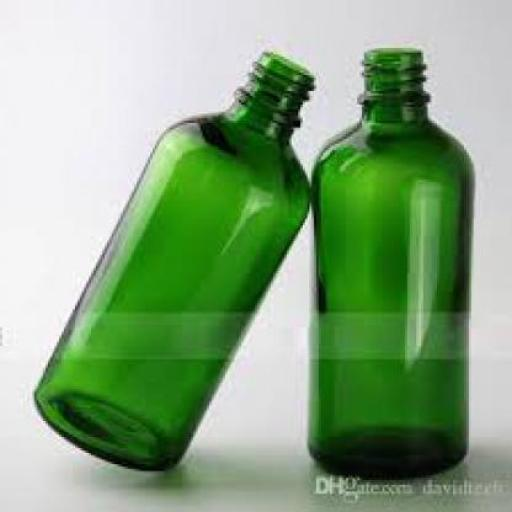glass: (29, 50, 309, 469), (309, 43, 466, 476)
